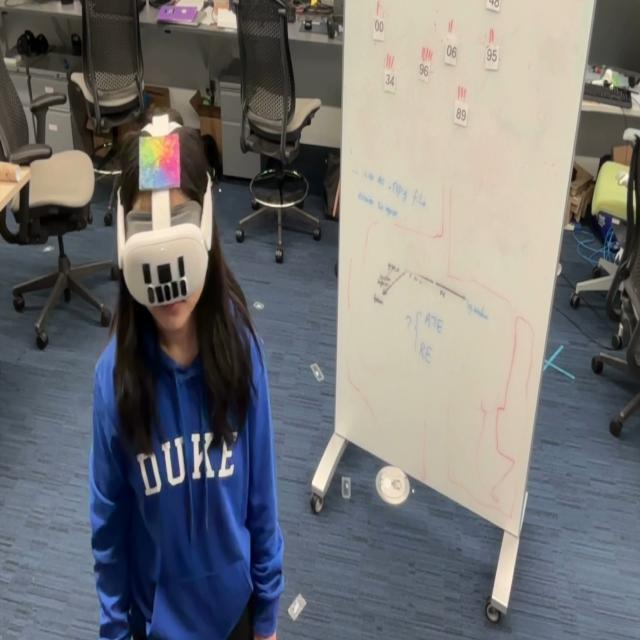Headset: (116, 126, 214, 308)
Marker: (136, 132, 184, 200)
